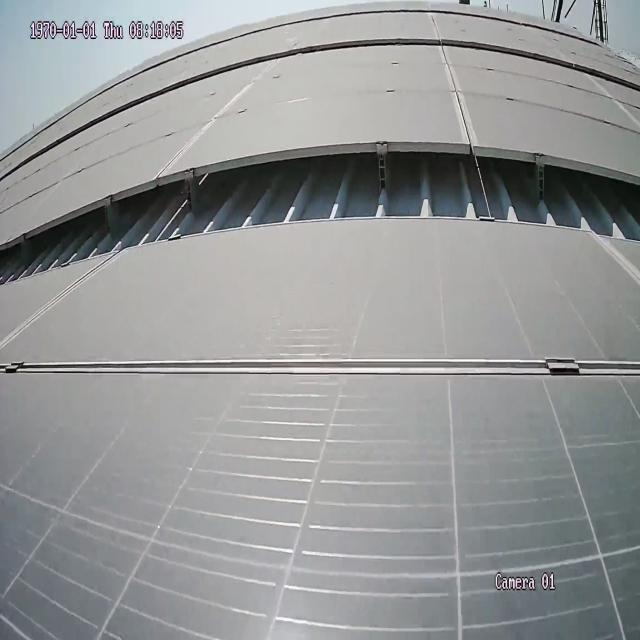interior panel: (1, 355, 638, 378), (156, 65, 276, 175), (438, 46, 477, 144)
outher panel: (1, 148, 637, 281)
